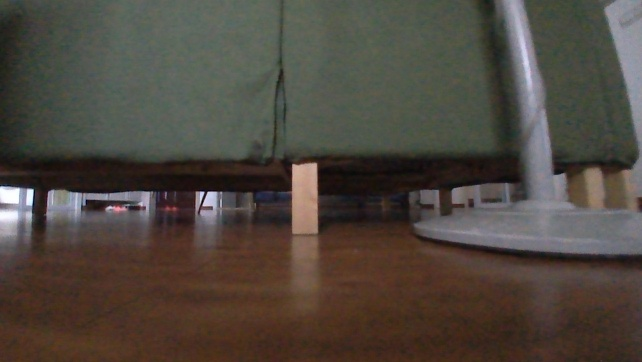chair_base: (404, 178, 641, 265)
